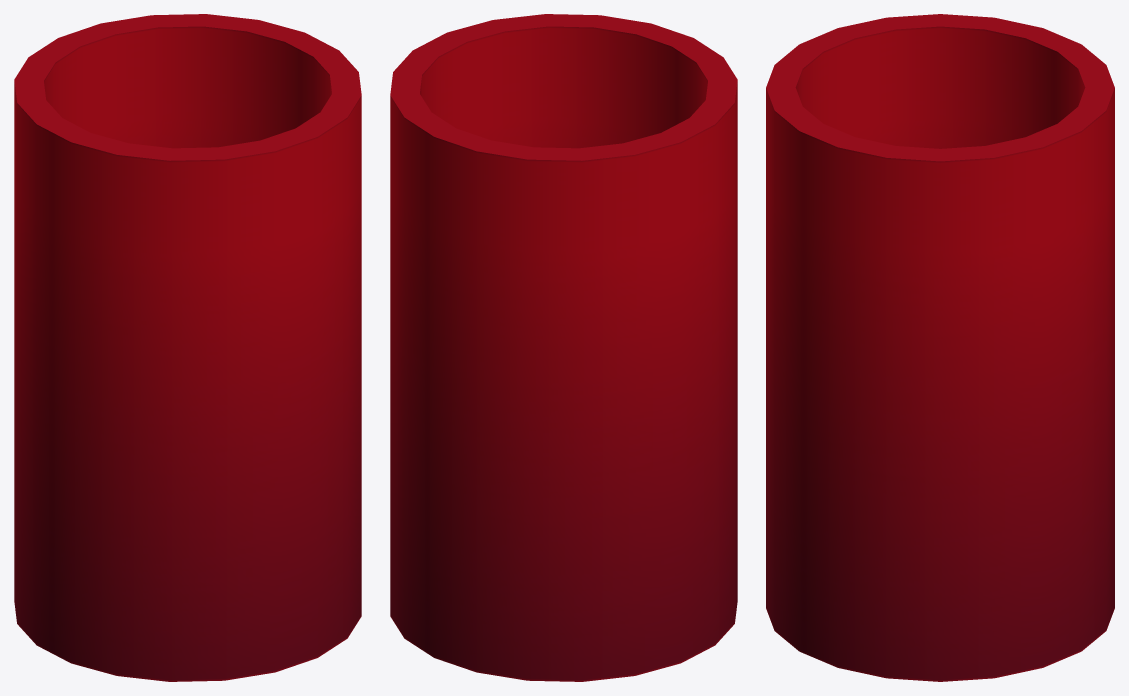
Rendered from glass 1.fbx.
3 views of the same model, side by side, from view 1: azimuth 30°, elevation 25°; view 2: azimuth 150°, elevation 25°; view 3: azimuth 270°, elevation 25° (orthographic).
Visible parts, largest first — view 1: Cup1; view 2: Cup1; view 3: Cup1.
Part boxes in pixels (bbox=[...]): Cup1: bbox=[14, 14, 361, 681]; Cup1: bbox=[390, 14, 737, 681]; Cup1: bbox=[766, 14, 1114, 681].
Size of the model in its own units: 1.49 by 2.45 by 1.49.
Materials: 1 (1 with a texture image).
